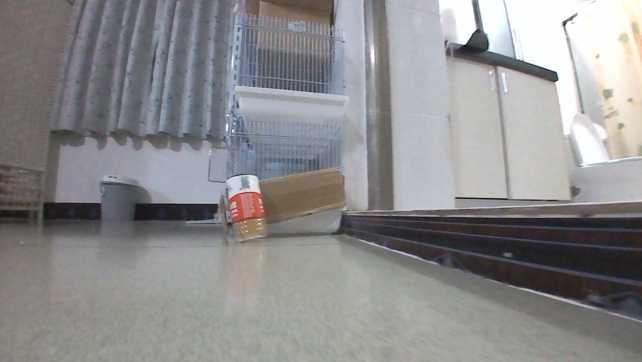door_sill: (340, 195, 641, 321)
toilet: (564, 107, 640, 204)
trash_can: (95, 172, 142, 221)
